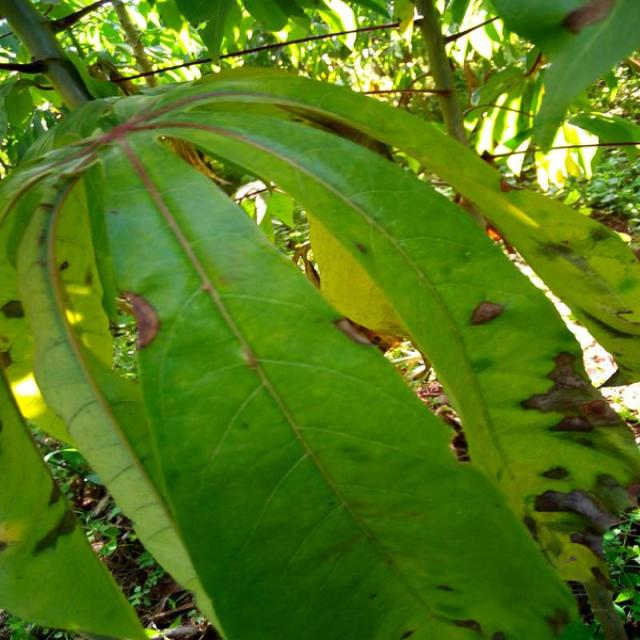cassava leaf: (4, 68, 638, 638)
